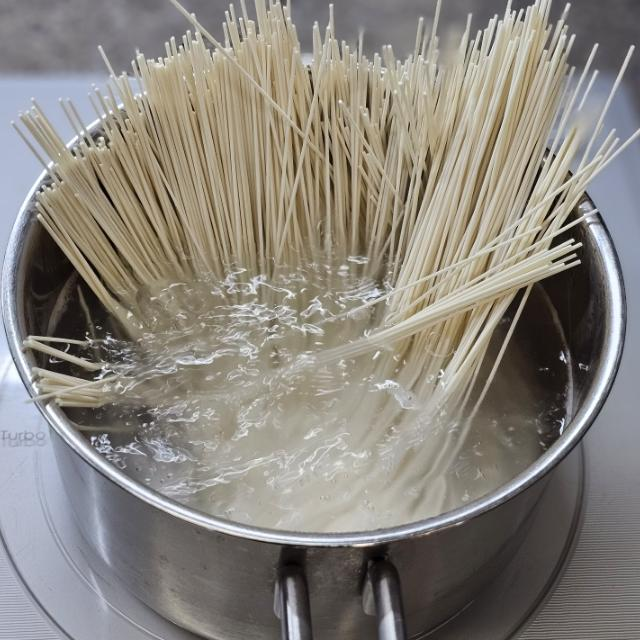noodles: (1, 0, 640, 375)
